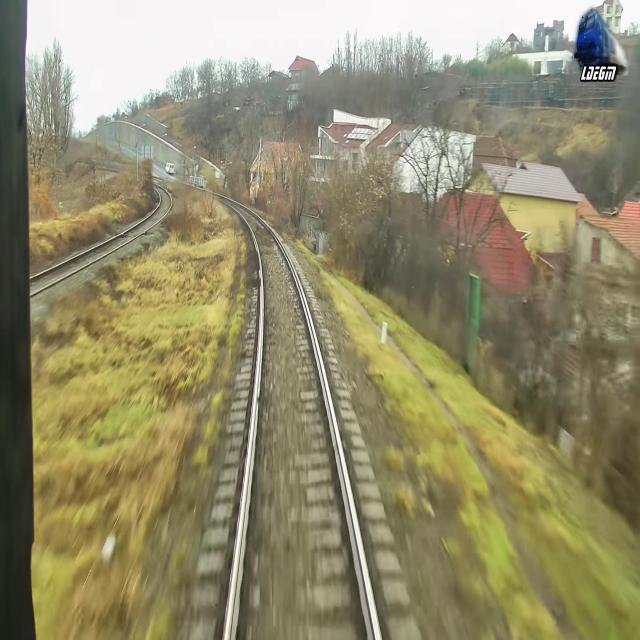rail-track: (204, 190, 376, 639), (0, 183, 171, 309)
